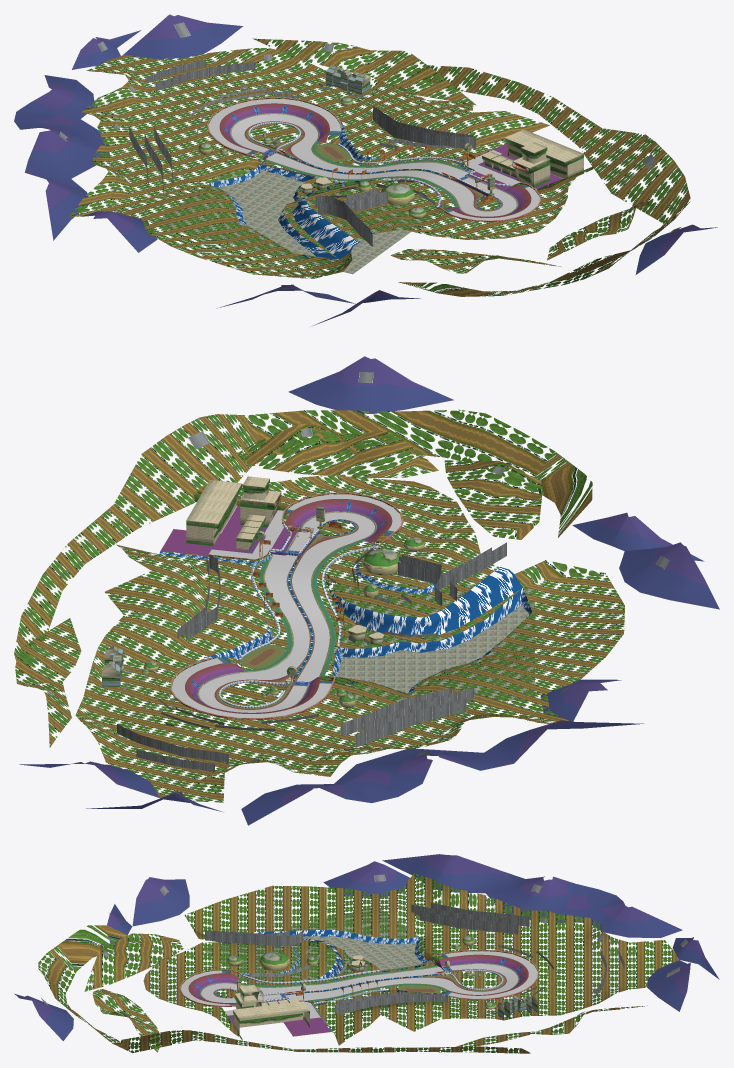
The model's file is Luigi+Circuit.fbx.
3 views of the same model, one above another, from view 1: azimuth 30°, elevation 25°; view 2: azimuth 150°, elevation 25°; view 3: azimuth 270°, elevation 25° (orthographic). The views are drawn at different scales.
Visible parts, largest first — view 1: default_object; view 2: default_object; view 3: default_object.
Boxes of the visible parts, bbox=[...] form: default_object: bbox=[14, 14, 717, 326]; default_object: bbox=[14, 356, 719, 825]; default_object: bbox=[14, 854, 719, 1053].
Size of the model in its own units: 3820012 by 460658 by 5251693.
